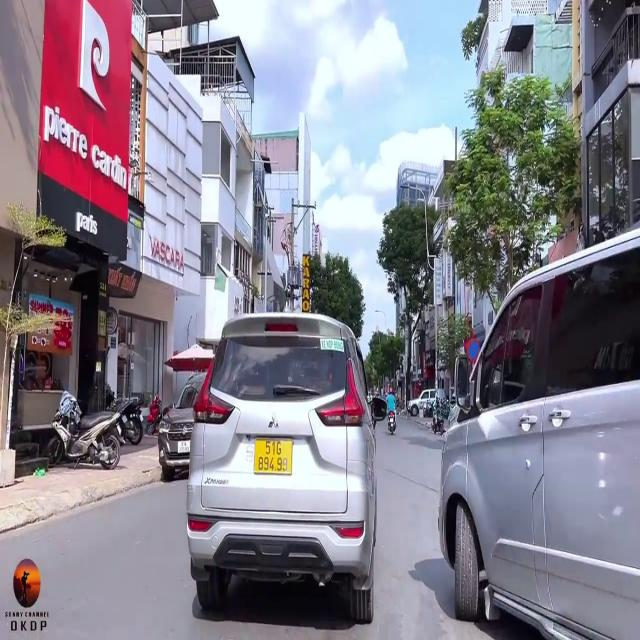bien_vang: (255, 433, 292, 478)
